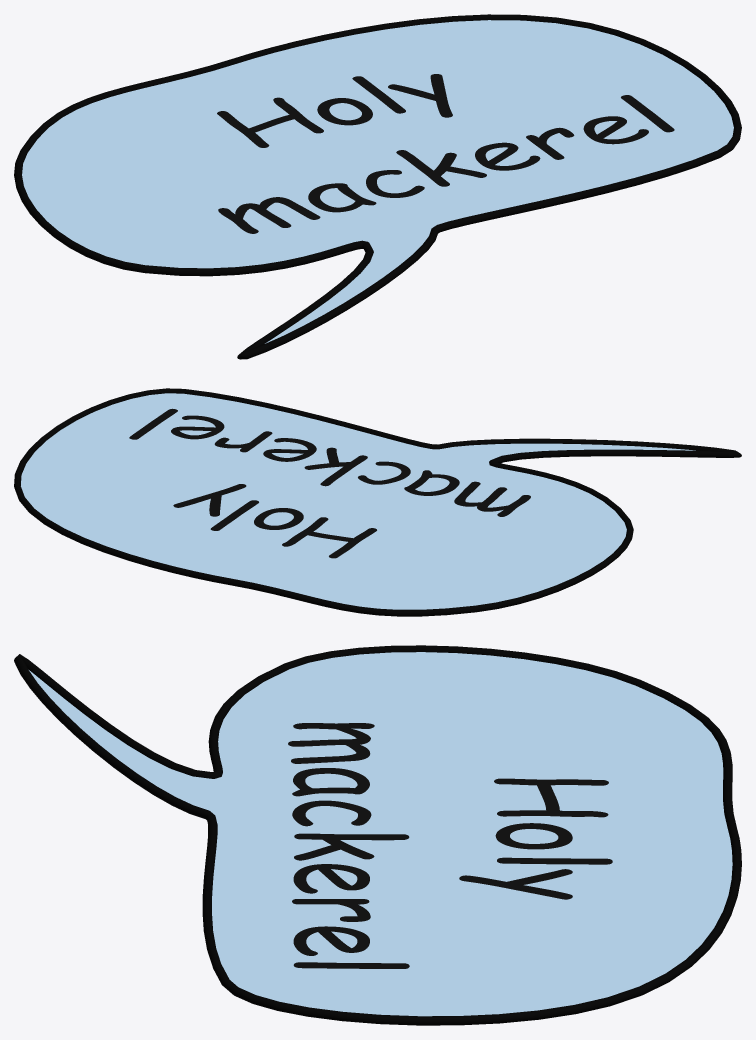
The model's file is Holy_Makerel.fbx.
3 renders of one model, top to bottom at view 1: azimuth 30°, elevation 25°; view 2: azimuth 150°, elevation 25°; view 3: azimuth 270°, elevation 25°, orthographic. The views are drawn at different scales.
Visible parts, largest first — view 1: BezierCircle.013, BezierCircle.012, Text.006; view 2: BezierCircle.013, BezierCircle.012, Text.006; view 3: BezierCircle.013, BezierCircle.012, Text.006.
Part boxes in pixels (<box>): BezierCircle.013: <box>22,20,733,343</box>; BezierCircle.012: <box>14,14,741,359</box>; Text.006: <box>217,74,674,233</box>; BezierCircle.013: <box>21,393,695,609</box>; BezierCircle.012: <box>14,388,741,616</box>; Text.006: <box>129,408,530,558</box>; BezierCircle.013: <box>29,652,732,1016</box>; BezierCircle.012: <box>14,645,741,1025</box>; Text.006: <box>288,723,612,968</box>.
Size of the model in its own units: 189 by 2.58 by 155.
